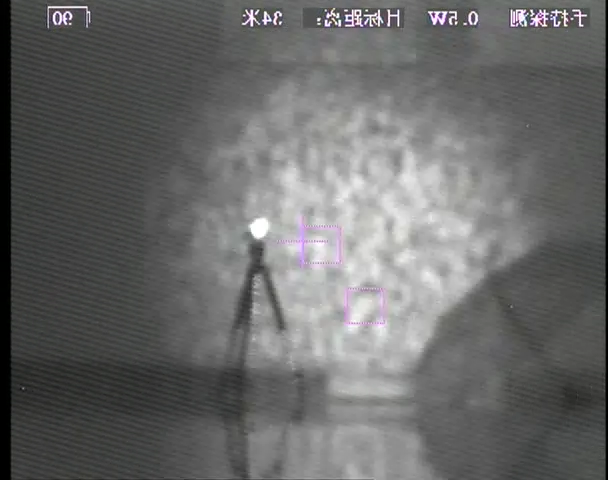my: (246, 216, 270, 240)
